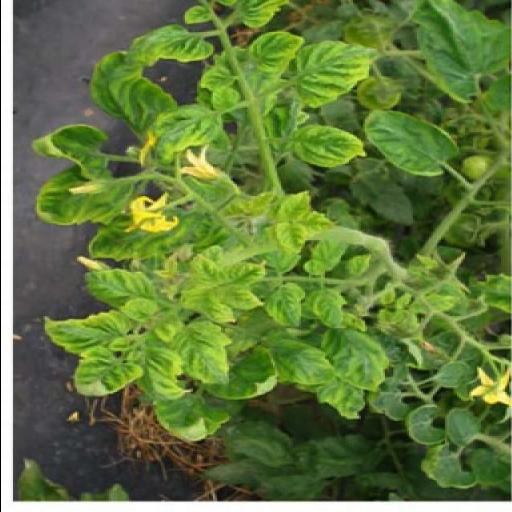Yellow Leaf Curl Virus: (274, 41, 376, 111), (38, 167, 128, 234), (64, 346, 138, 416), (314, 330, 392, 396), (28, 122, 110, 182), (282, 124, 368, 180), (136, 104, 216, 162), (172, 320, 232, 388), (108, 26, 212, 64), (78, 268, 158, 312), (250, 29, 300, 79), (260, 282, 302, 332), (220, 260, 264, 300), (176, 252, 218, 292), (270, 188, 306, 224), (268, 225, 298, 266)
